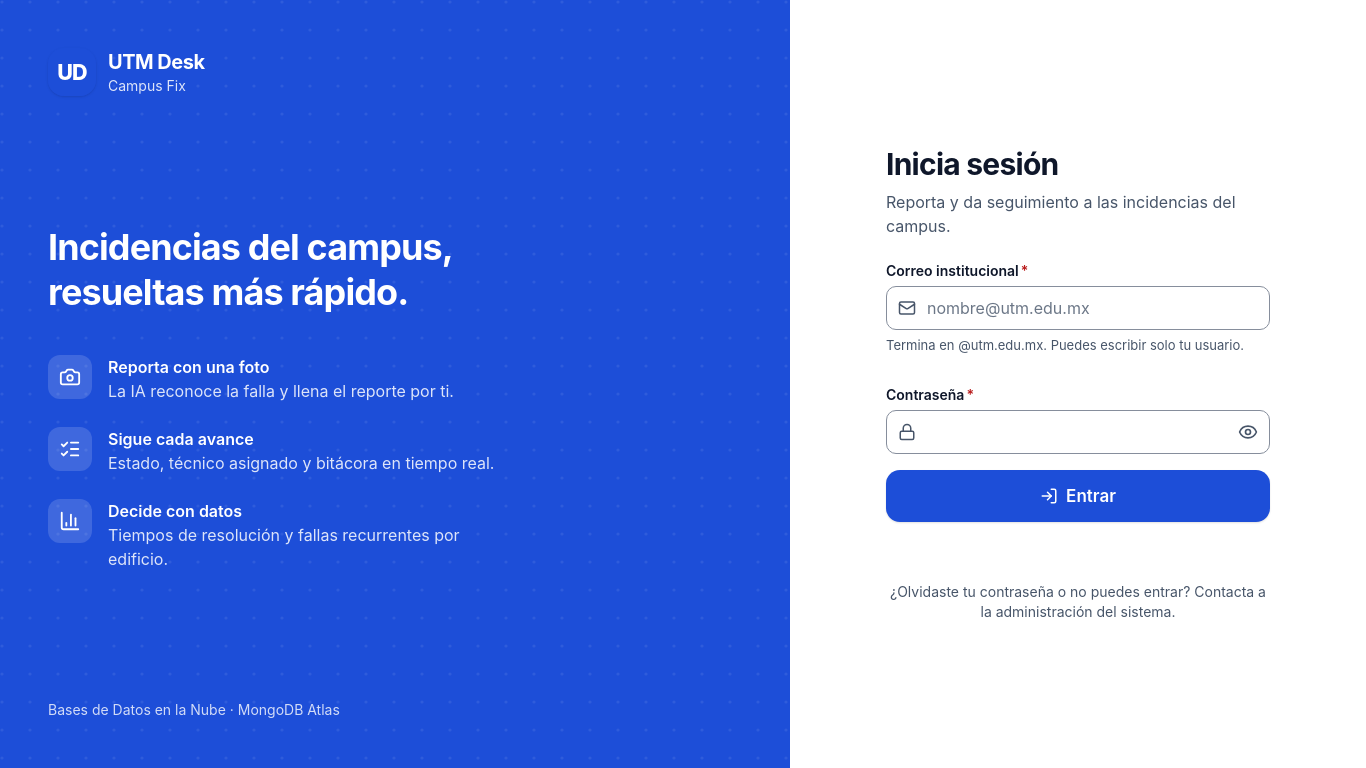
Test: Login › credenciales incorrectas se muestran con role="alert"
The width and height of the screenshot is (1366, 768).
Type "ana@utm.edu.mx" into the field labelled "Correo institucional*" at (1078,308), box [886,286,1270,330]
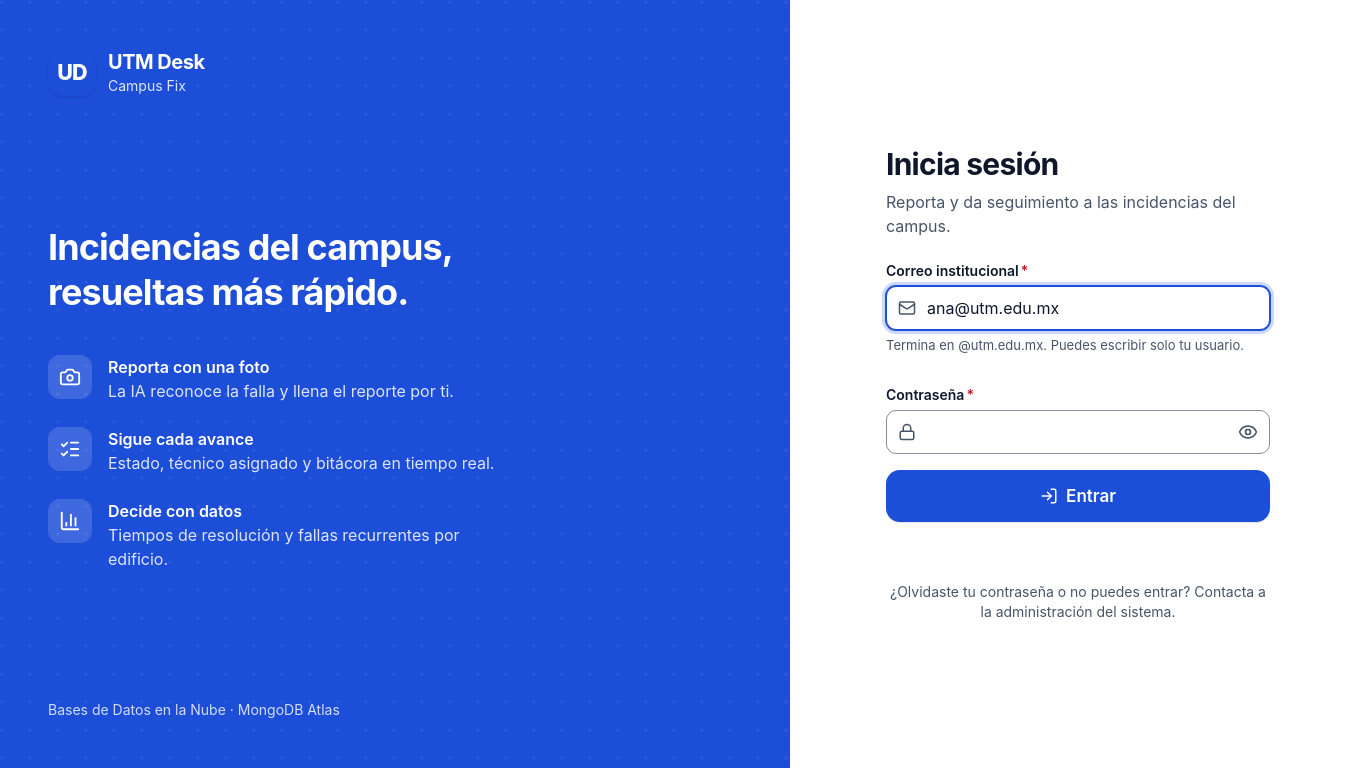
Type "mala" into the password field labelled "Contraseña*" at (1078,432), box [886,410,1270,454]
Then press Enter
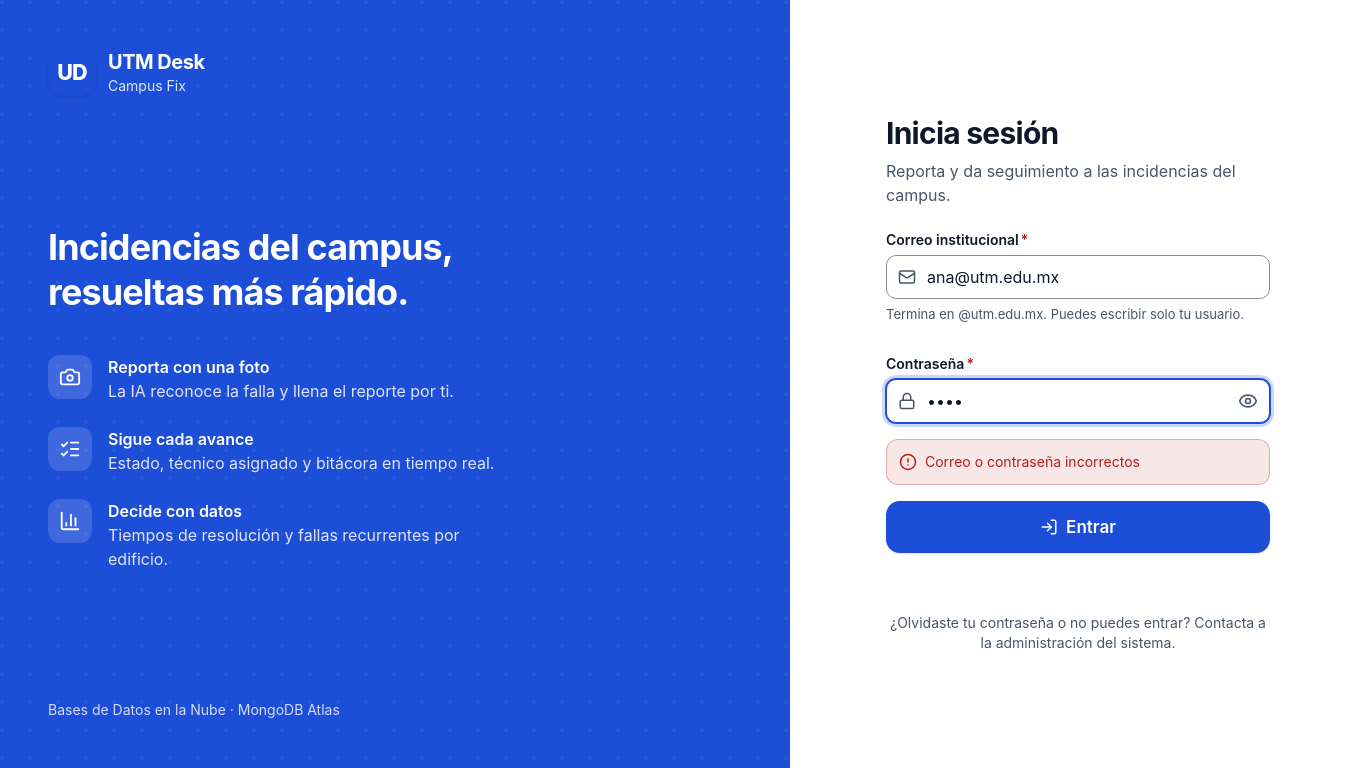
Result: the message "Correo o contraseña incorrectos" is shown at [886,439,1270,485]
